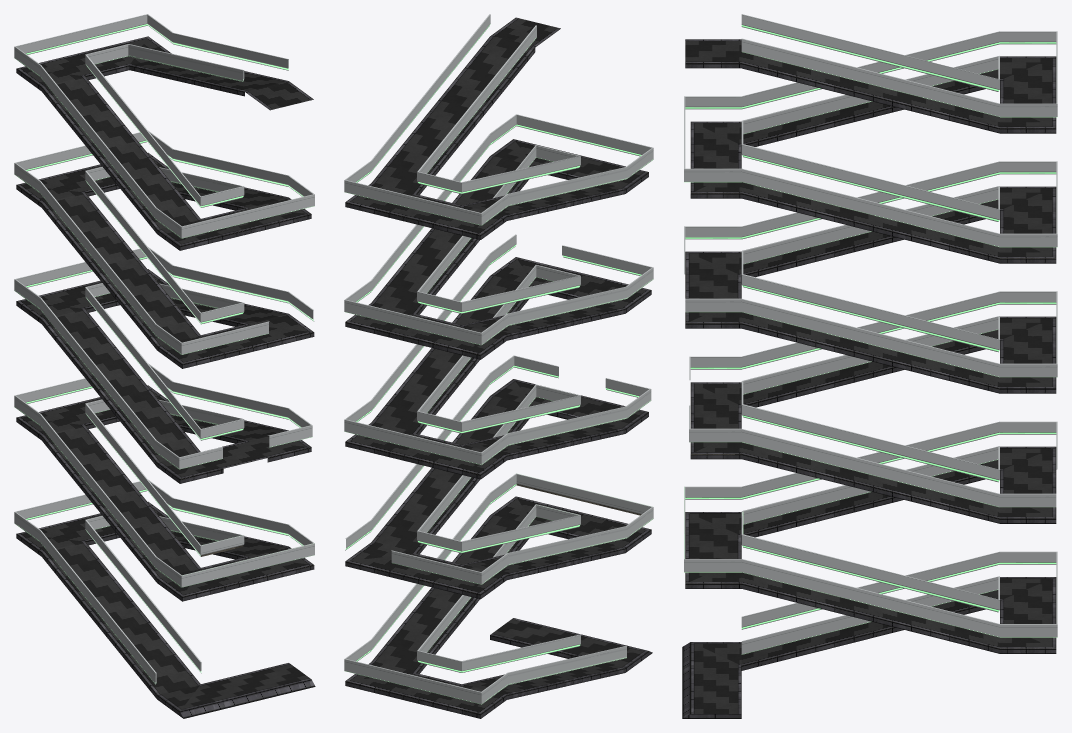
File: entity15160.gltf
3 renders of one model, left to right at view 1: azimuth 30°, elevation 25°; view 2: azimuth 150°, elevation 25°; view 3: azimuth 270°, elevation 25°, orthographic. The views are drawn at different scales.
Visible parts, largest first — view 1: node_Exhibit_Str_Stairs_1_Art, node_Exhibit_Str_Stairs_1_Railing; view 2: node_Exhibit_Str_Stairs_1_Art, node_Exhibit_Str_Stairs_1_Railing; view 3: node_Exhibit_Str_Stairs_1_Railing, node_Exhibit_Str_Stairs_1_Art.
Part boxes in pixels (x1=…): node_Exhibit_Str_Stairs_1_Art: x1=16, y1=36, x2=315, y2=718; node_Exhibit_Str_Stairs_1_Railing: x1=14, y1=14, x2=314, y2=684; node_Exhibit_Str_Stairs_1_Art: x1=345, y1=17, x2=652, y2=718; node_Exhibit_Str_Stairs_1_Railing: x1=344, y1=14, x2=653, y2=704; node_Exhibit_Str_Stairs_1_Railing: x1=684, y1=14, x2=1057, y2=654; node_Exhibit_Str_Stairs_1_Art: x1=682, y1=39, x2=1056, y2=718.
Size of what is drawn, in the model's own units: 6.1 by 26.56 by 13.29.
Materials: 2 (2 with a texture image).
